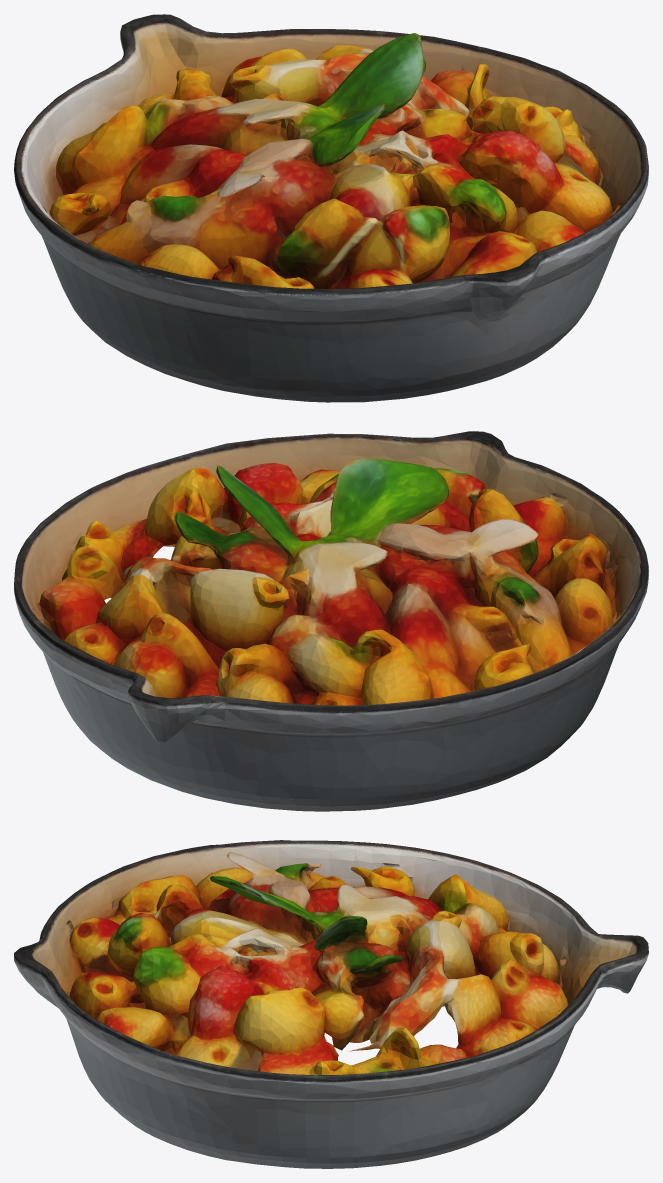
Rendered from pasta.glb.
The picture shows the model from 3 angles, top to bottom: view 1: azimuth 30°, elevation 25°; view 2: azimuth 150°, elevation 25°; view 3: azimuth 270°, elevation 25°; orthographic projection. The views are drawn at different scales.
Visible parts, largest first — view 1: world; view 2: world; view 3: world.
Boxes of the visible parts, left/top/right/bottom form: world: left=14, top=14, right=648, bottom=402; world: left=14, top=431, right=648, bottom=811; world: left=14, top=840, right=648, bottom=1168.
Bounding box in the file's own units: 0.8801 × 0.3619 × 0.9972.
Materials: 1 (1 with a texture image).
